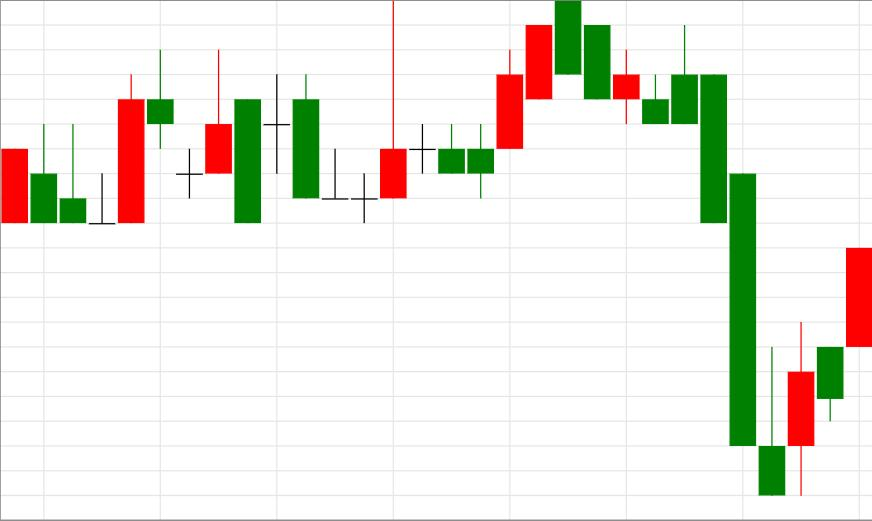inverse_hammer_rise: (555, 1, 785, 495)
